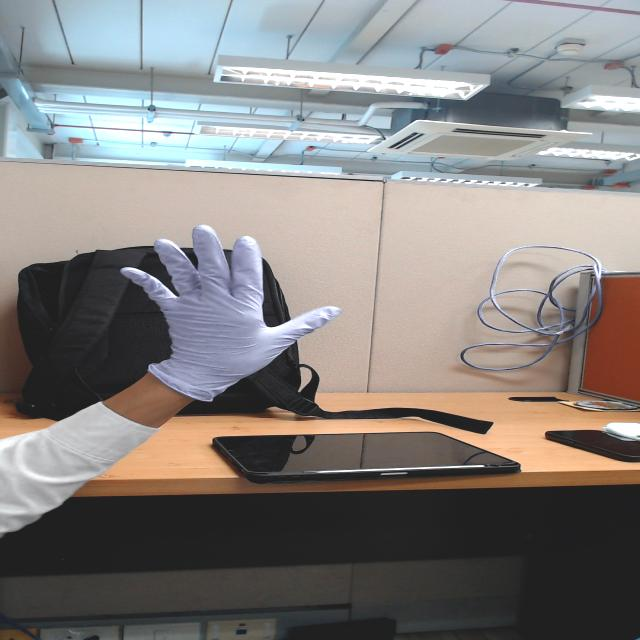glove: (112, 218, 353, 358)
